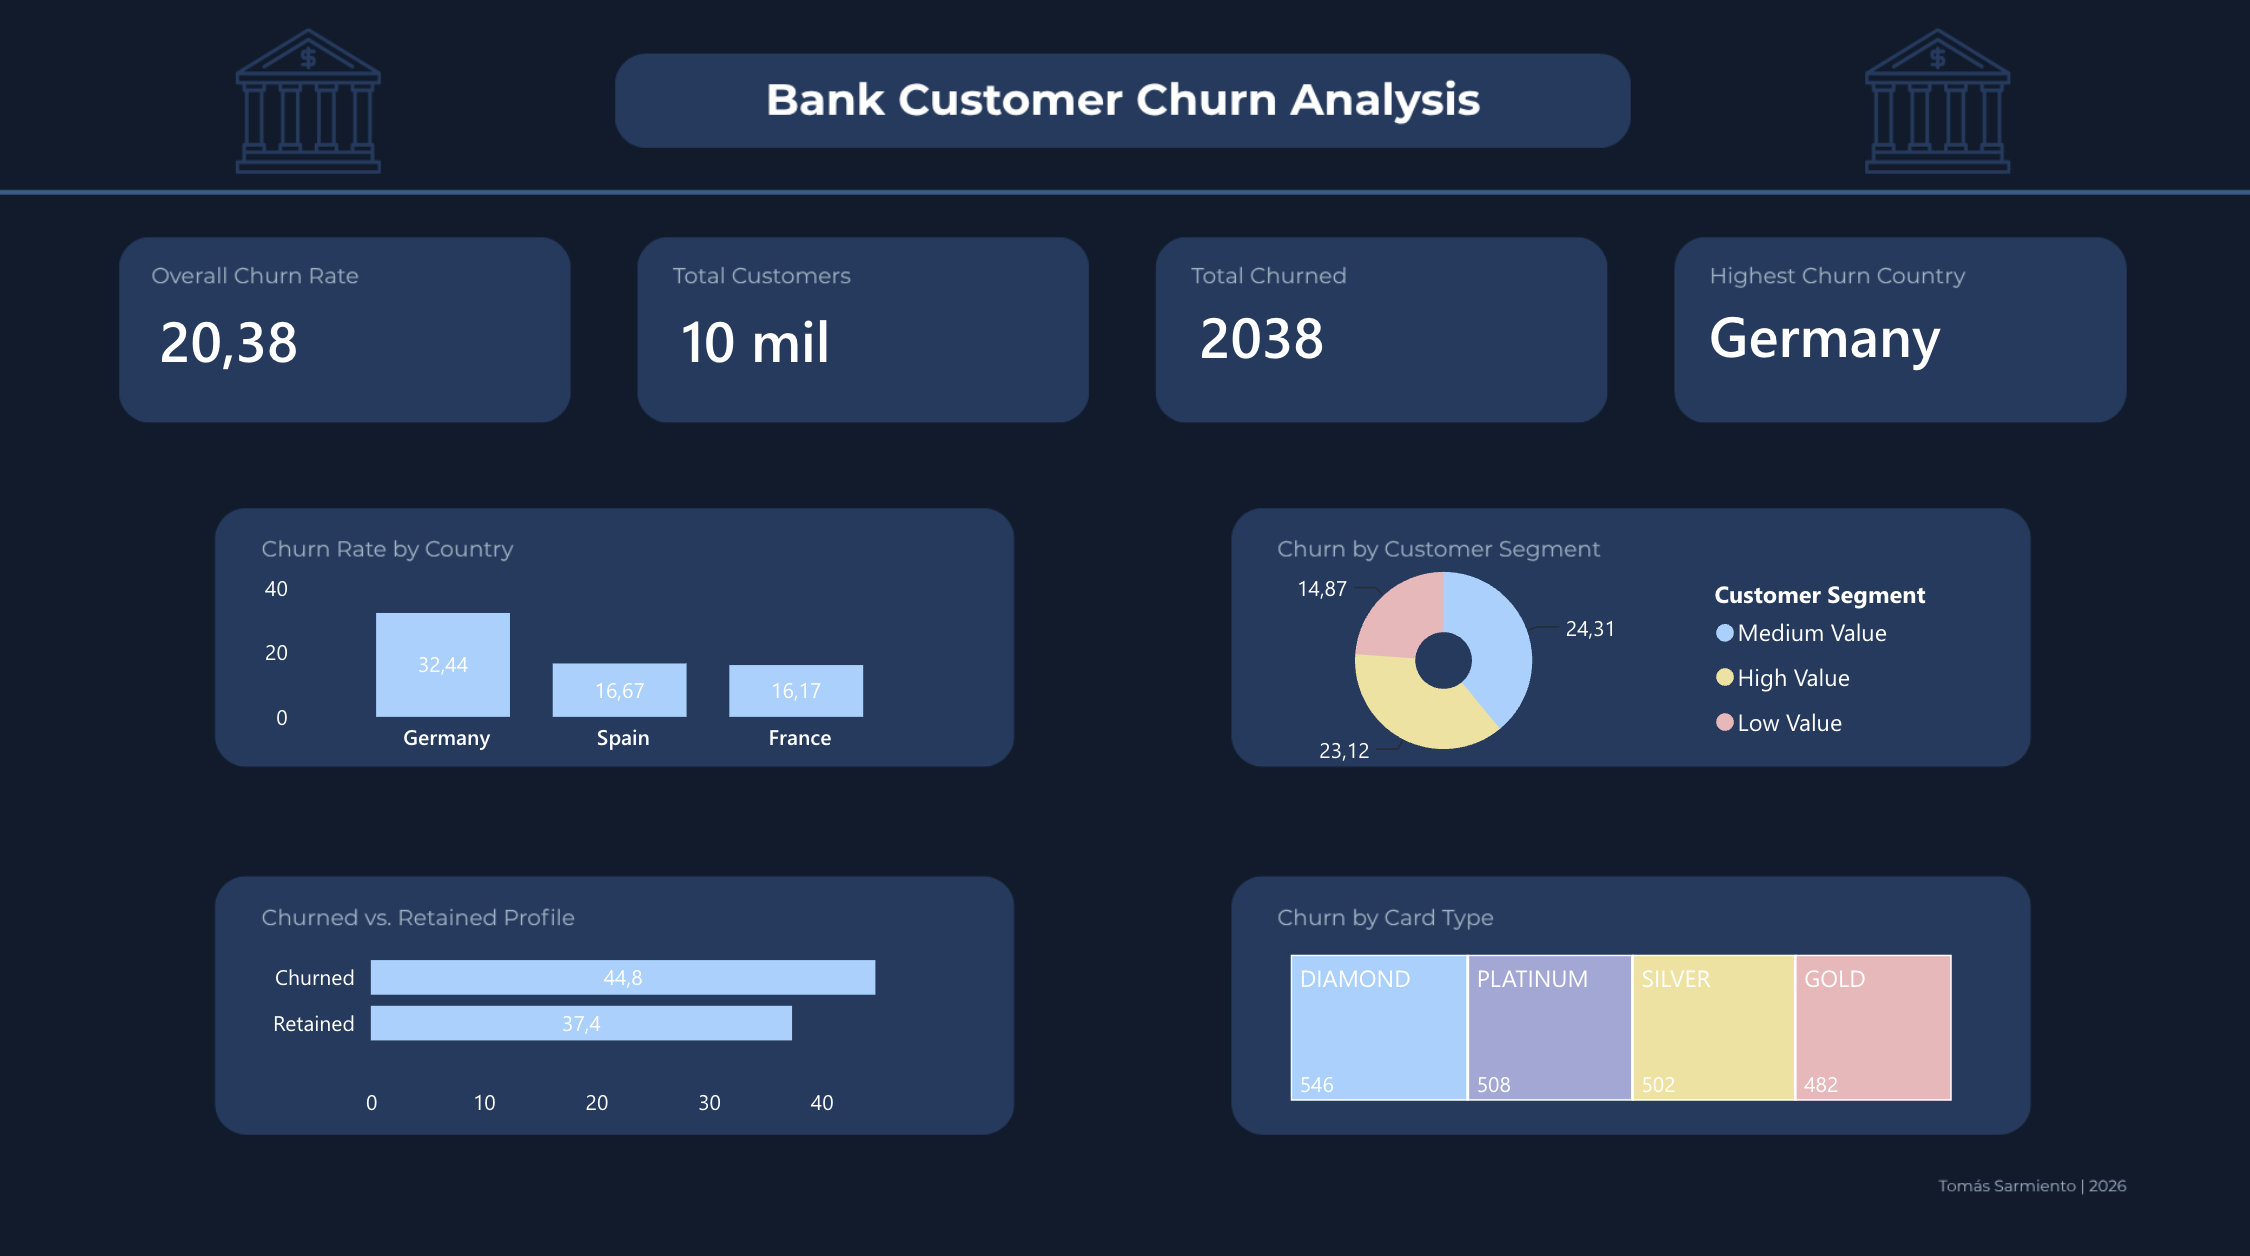

This screenshot's page, from the dashboard's own definition file:
{"tool":"powerbi","page":{"name":"Página 1","canvas":[1280,720],"ordinal":0},"visuals":[{"type":"cardVisual","fields":{"Data":["Avg(Hoja1.bank_avg_churn_rate)"]},"box":[65.5,149.5,166.3,89],"z":0},{"type":"cardVisual","fields":{"Data":["Sum(q1_churn_by_country.total_customers)"]},"box":[361.1,149.5,166.3,89],"z":1000},{"type":"card","fields":{"Values":["q1_churn_by_country.Highest Churn Country"]},"box":[959.6,149.7,154.9,88],"z":2000},{"type":"card","fields":{"Values":["Sum(q1_churn_by_country.churned_customers)"]},"box":[663.5,149.5,110.9,89],"z":3000},{"type":"clusteredColumnChart","fields":{"Category":["q1_churn_by_country.geography"],"Y":["Sum(q1_churn_by_country.churn_rate)"]},"box":[149.3,314.7,392.9,124.4],"z":4000},{"type":"donutChart","fields":{"Category":["q3_churn_by_segment.customer_segment"],"Y":["Avg(q3_churn_by_segment.churn_rate)"]},"box":[663.1,307.6,451.6,138.7],"z":5000},{"type":"clusteredBarChart","fields":{"Y":["Avg(q2_churned_vs_retained.avg_age)"],"Category":["q2_churned_vs_retained.customer_status"]},"box":[149.3,510.2,392.9,135.1],"z":6000},{"type":"treemap","fields":{"Group":["q6_churn_by_card_type.card_type"],"Values":["Sum(q6_churn_by_card_type.churned_customers)"]},"box":[730.7,538.7,384,92.4],"z":7000}]}

Visuals, with their boxes in screenshot pixels (x1, y1, x2, y2), scaled from the page's 1280x720 canvas onto the 2250x1256 screenshot:
cardVisual - Avg(Hoja1.bank_avg_churn_rate): bbox=(115, 261, 407, 416)
cardVisual - Sum(q1_churn_by_country.total_customers): bbox=(635, 261, 927, 416)
card - q1_churn_by_country.Highest Churn Country: bbox=(1687, 261, 1959, 415)
card - Sum(q1_churn_by_country.churned_customers): bbox=(1166, 261, 1361, 416)
clusteredColumnChart - q1_churn_by_country.geography x Sum(q1_churn_by_country.churn_rate): bbox=(262, 549, 953, 766)
donutChart - q3_churn_by_segment.customer_segment x Avg(q3_churn_by_segment.churn_rate): bbox=(1166, 537, 1959, 779)
clusteredBarChart - Avg(q2_churned_vs_retained.avg_age) x q2_churned_vs_retained.customer_status: bbox=(262, 890, 953, 1126)
treemap - q6_churn_by_card_type.card_type x Sum(q6_churn_by_card_type.churned_customers): bbox=(1284, 940, 1959, 1101)
